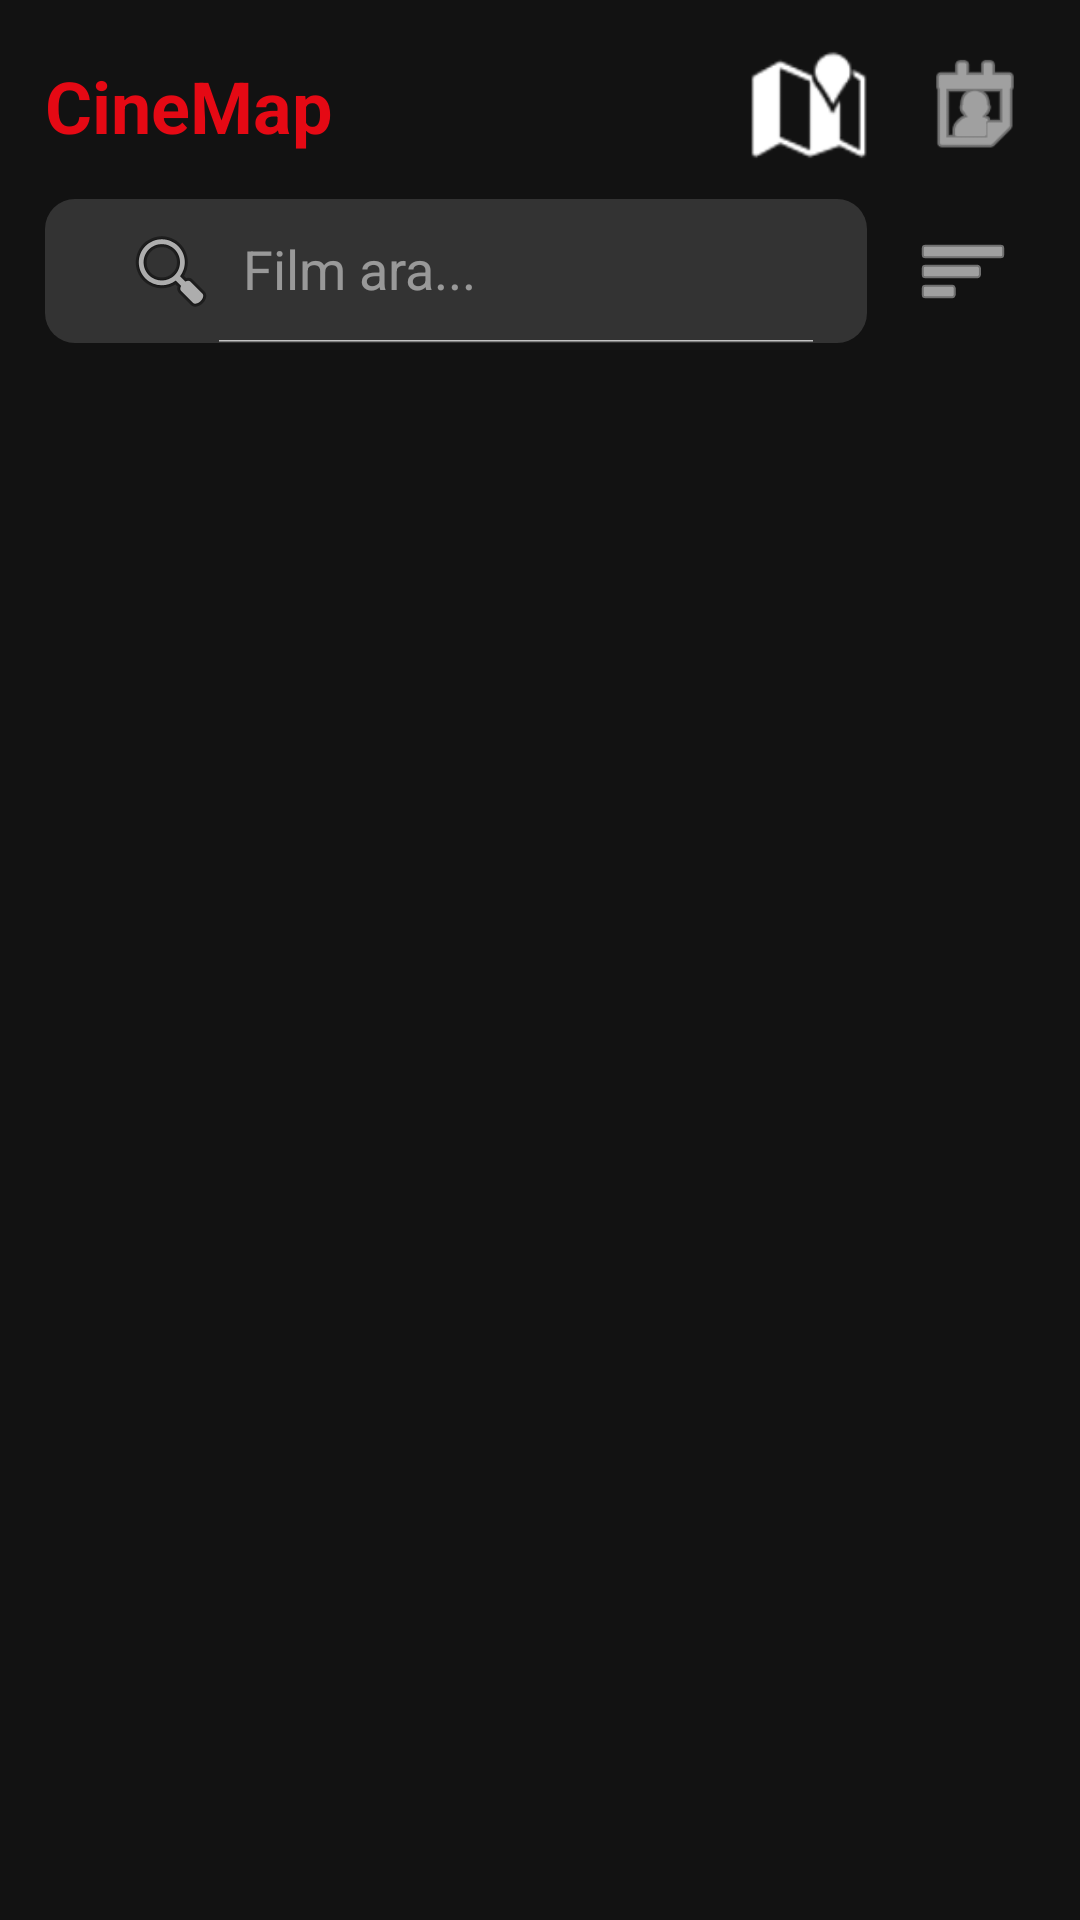

Where icons sit on this 1080×1920 app screen, as (x1, y1, x2, y2):
calendar: (936, 60, 1014, 148)
map: (751, 52, 867, 158)
sort by size: (922, 245, 1004, 298)
